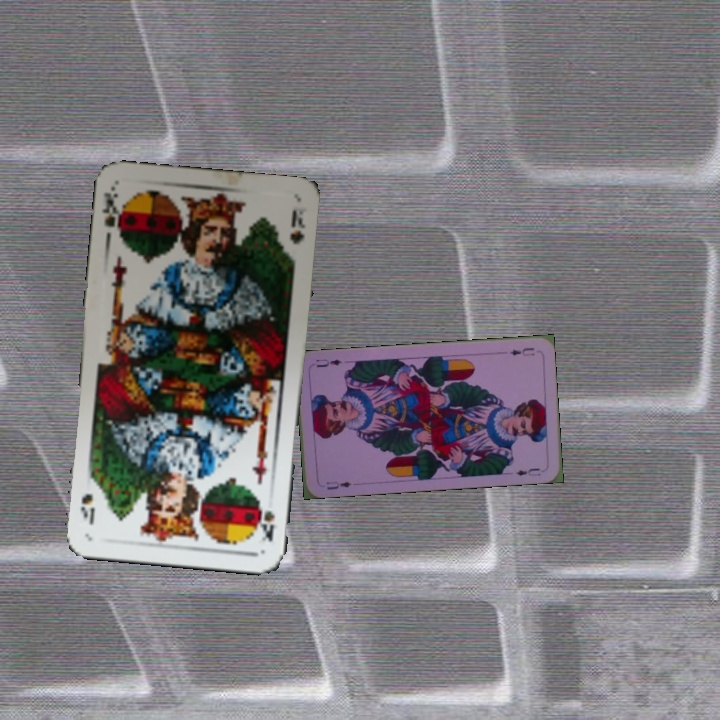EU: (322, 477, 354, 492), (506, 344, 537, 358)
SK: (99, 184, 126, 240), (256, 503, 277, 544)
